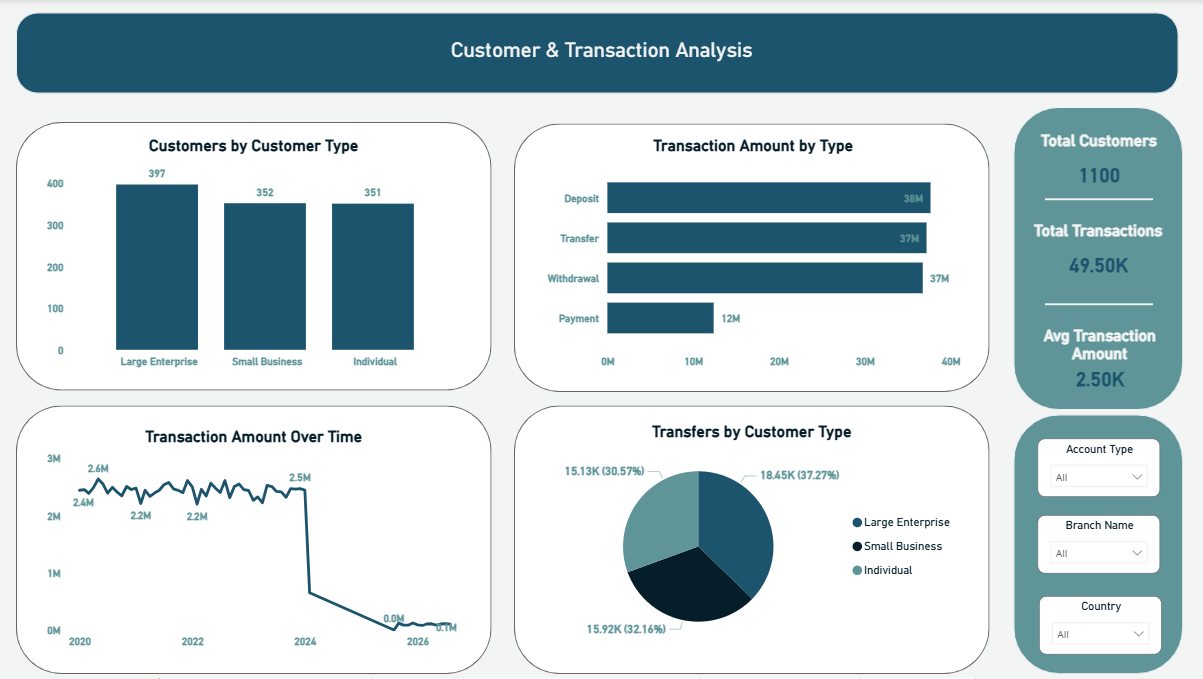

What the dashboard file says about the page in this screenshot:
{"tool":"powerbi","page":{"name":"Customer & Transaction Analysis","canvas":[1280,720],"ordinal":1},"visuals":[{"type":"shape","box":[813.8,154.2,12.7,93.8],"z":0},{"type":"shape","box":[1076,114.4,179.6,321.1],"z":1000},{"type":"shape","box":[616.7,154.2,12.7,93.8],"z":2000},{"type":"shape","box":[411.7,154.2,12.7,93.8],"z":3000},{"type":"shape","box":[209.8,154.2,12.7,93.8],"z":4000},{"type":"card","title":"Total Customers","fields":{"Values":["Count(customers.CustomerID)"]},"box":[1071.3,139.9,190.7,73.1],"z":5000},{"type":"card","title":"Total Transactions","fields":{"Values":["CountNonNull(transactions.TransactionID)"]},"box":[1091.9,235.2,147.8,73.1],"z":6000},{"type":"shape","box":[19.1,14.3,1231.8,85.8],"z":7000},{"type":"textbox","box":[433.9,36.6,411.7,41.3],"z":8000},{"type":"shape","box":[1109.4,189.1,114.4,46.1],"z":9000},{"type":"shape","box":[1109.4,300.4,114.4,46.1],"z":10000},{"type":"card","title":"Avg Transaction Amount","fields":{"Values":["Avg(transactions.Amount)"]},"box":[1093.5,346.5,147.8,73.1],"z":11000},{"type":"shape","box":[19.1,130.3,503.8,284.5],"z":12000},{"type":"shape","box":[1076,440.3,179.6,275],"z":13000},{"type":"shape","box":[546.8,430.7,503.8,284.5],"z":14000},{"type":"shape","box":[19.1,430.7,503.8,284.5],"z":15000},{"type":"shape","box":[546.8,131.9,503.8,284.5],"z":16000},{"type":"clusteredColumnChart","title":"Customers by Customer Type","fields":{"Category":["customer_types.TypeName"],"Y":["CountNonNull(customers.CustomerID)"]},"box":[46.1,144.6,449.8,252.7],"z":17000},{"type":"barChart","title":"Transaction Amount by Type","fields":{"Category":["transaction_types.TypeName"],"Y":["Sum(transactions.Amount)"]},"box":[575.4,144.6,449.8,252.7],"z":18000},{"type":"lineChart","title":"Transaction Amount Over Time","fields":{"Y":["Sum(transactions.Amount)"],"Category":["transactions.TransactionDate.Variation.Date Hierarchy.Year","transactions.TransactionDate.Variation.Date Hierarchy.Month"]},"box":[46.1,453,449.8,241.6],"z":19000},{"type":"pieChart","title":"Transfers by Customer Type","fields":{"Category":["customer_types.TypeName"],"Y":["CountNonNull(transactions.TransactionID)"]},"box":[574.5,447.9,449.8,243.8],"z":20000},{"type":"slicer","title":"Account Type","fields":{"Values":["account_types.TypeName"]},"box":[1101.5,465.7,130.3,62],"z":21000},{"type":"slicer","title":"Branch Name","fields":{"Values":["branches.BranchName"]},"box":[1101.5,546.8,130.3,62],"z":22000},{"type":"slicer","title":"Country","fields":{"Values":["addresses.Country"]},"box":[1103,632.6,130.3,62],"z":23000}]}

Visuals, with their boxes in screenshot pixels (x1, y1, x2, y2), scaled from the page's 1280x720 canvas onto the 1203x679 screenshot:
shape: BBox(765, 145, 777, 234)
shape: BBox(1011, 108, 1180, 411)
shape: BBox(580, 145, 592, 234)
shape: BBox(387, 145, 399, 234)
shape: BBox(197, 145, 209, 234)
"Total Customers" card: BBox(1007, 132, 1186, 201)
"Total Transactions" card: BBox(1026, 222, 1165, 291)
shape: BBox(18, 13, 1176, 94)
textbox: BBox(408, 35, 795, 73)
shape: BBox(1043, 178, 1150, 222)
shape: BBox(1043, 283, 1150, 327)
"Avg Transaction Amount" card: BBox(1028, 327, 1167, 396)
shape: BBox(18, 123, 491, 391)
shape: BBox(1011, 415, 1180, 675)
shape: BBox(514, 406, 987, 674)
shape: BBox(18, 406, 491, 674)
shape: BBox(514, 124, 987, 393)
"Customers by Customer Type" clusteredColumnChart: BBox(43, 136, 466, 375)
"Transaction Amount by Type" barChart: BBox(541, 136, 964, 375)
"Transaction Amount Over Time" lineChart: BBox(43, 427, 466, 655)
"Transfers by Customer Type" pieChart: BBox(540, 422, 963, 652)
"Account Type" slicer: BBox(1035, 439, 1158, 498)
"Branch Name" slicer: BBox(1035, 516, 1158, 574)
"Country" slicer: BBox(1037, 597, 1159, 655)
